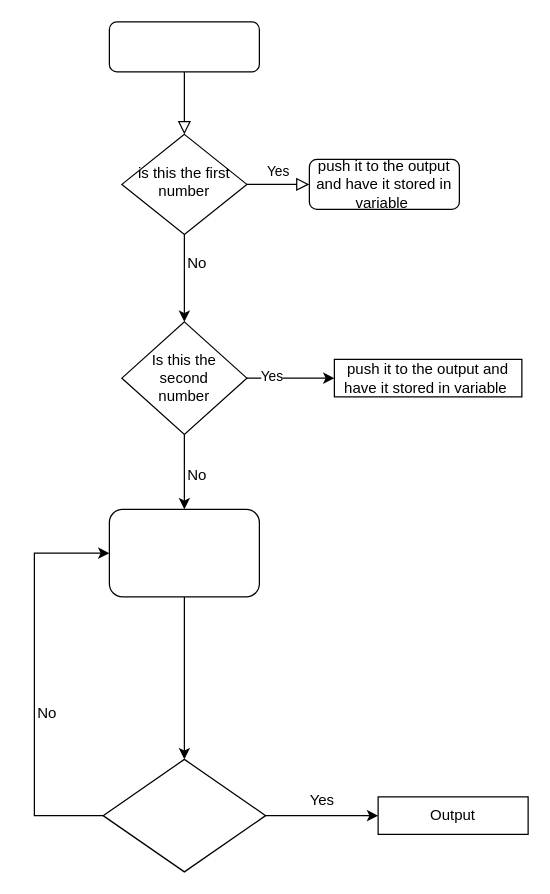
This 550x894 diagram has some shape labels left out. Each missing label, with the box of its shape:
Find the item at position array length - 2 and sum it to prev variable value.: (108, 508, 259, 597)
Is this the last count?: (102, 758, 266, 872)
Start: (108, 21, 259, 72)
